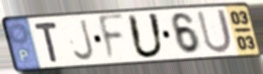6: (169, 12, 203, 57)
F: (96, 12, 127, 65)
J: (71, 18, 97, 63)
T: (32, 20, 60, 64)
U: (126, 12, 167, 61), (195, 7, 234, 55)
